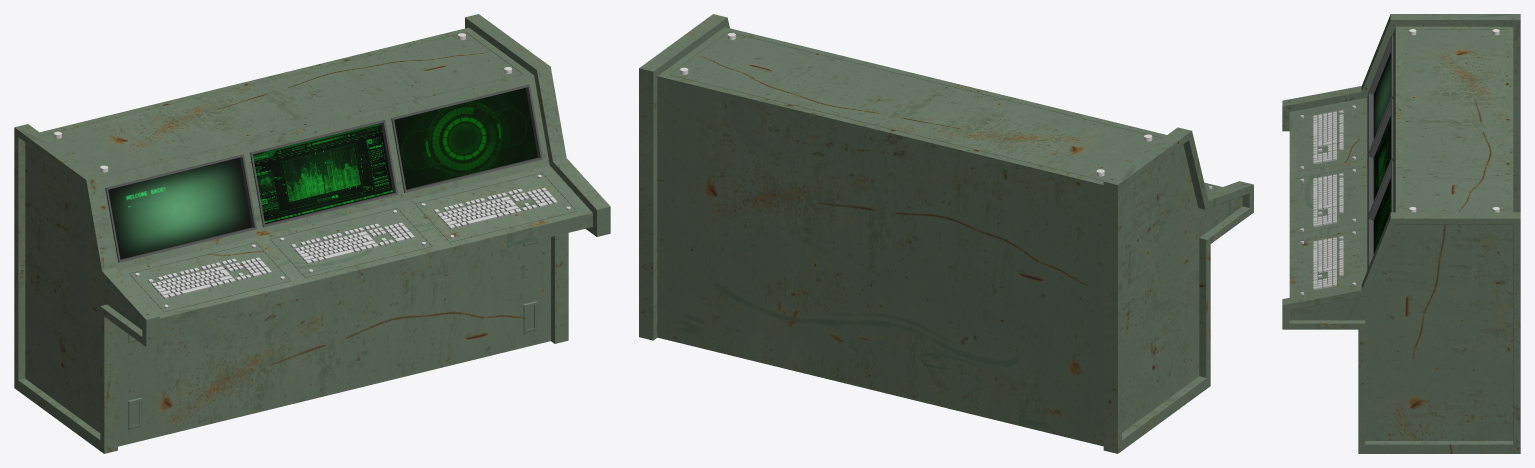
Rendered from NukeComputer.fbx.
3 views of the same model, side by side, from view 1: azimuth 30°, elevation 25°; view 2: azimuth 150°, elevation 25°; view 3: azimuth 270°, elevation 25° (orthographic). The views are drawn at different scales.
Visible parts, largest first — view 1: Body6, Body6.001, Body6.003, Body6.002, Body338, Body337, Body334; view 2: Body6; view 3: Body6, Body338, Body334, Body6.001, Body6.002, Body337, Body6.003.
Boxes of the visible parts, x1,y1,x2,y2 form: Body6: [14, 14, 610, 453]; Body6.001: [108, 157, 251, 259]; Body6.003: [394, 88, 537, 189]; Body6.002: [253, 123, 393, 223]; Body338: [105, 154, 256, 262]; Body337: [391, 84, 542, 192]; Body334: [250, 120, 397, 227]; Body6: [639, 14, 1253, 453]; Body6: [1282, 14, 1520, 453]; Body338: [1368, 35, 1393, 154]; Body334: [1368, 99, 1393, 216]; Body6.001: [1373, 52, 1390, 138]; Body6.002: [1373, 116, 1390, 200]; Body337: [1368, 161, 1393, 268]; Body6.003: [1373, 178, 1390, 253].
Size of the model in its own units: 341 by 183 by 168.
Materials: 7 (4 with a texture image).
